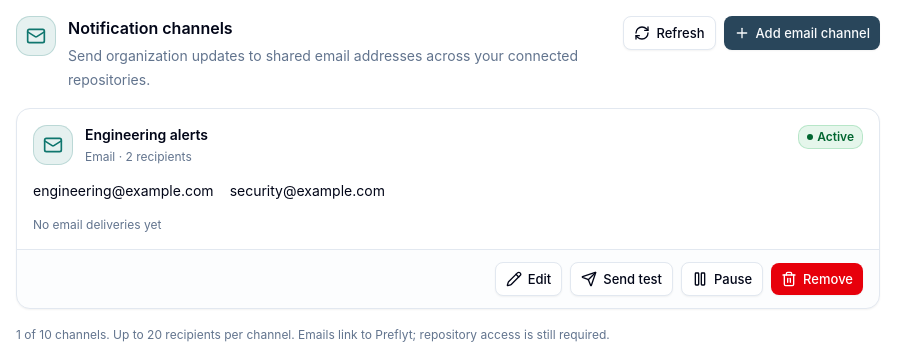
Test: keeps stale data disabled when a background refresh fails
Expected: the heading "Engineering alerts" is shown, [85, 125, 208, 145]
What coordinates should you click on to do the following:
click the button with aria-label "Refresh notification channels"
I would click on:
 (669, 33)
Its box is [623, 16, 716, 50].
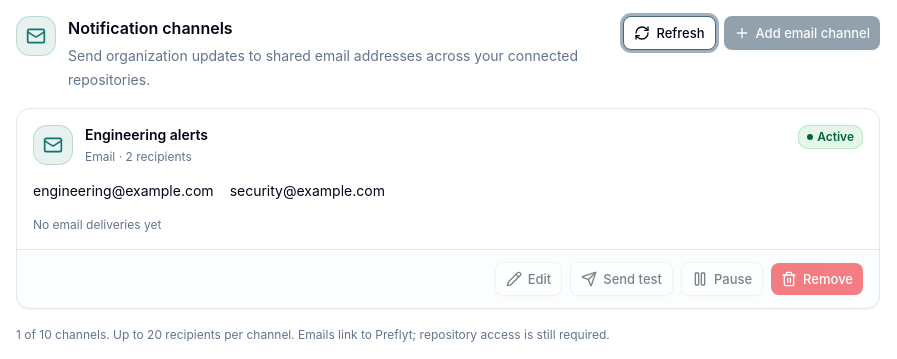
Expected: the button "Add email channel" is disabled, [724, 16, 880, 50]
